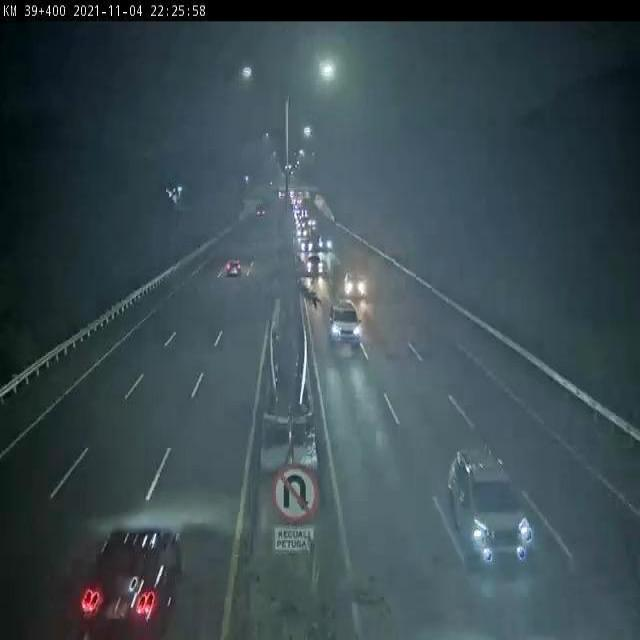car: (445, 448, 535, 569), (82, 528, 184, 625), (327, 301, 362, 343), (343, 273, 367, 299), (308, 258, 323, 274), (226, 258, 241, 274), (320, 233, 333, 250), (303, 239, 313, 248)
